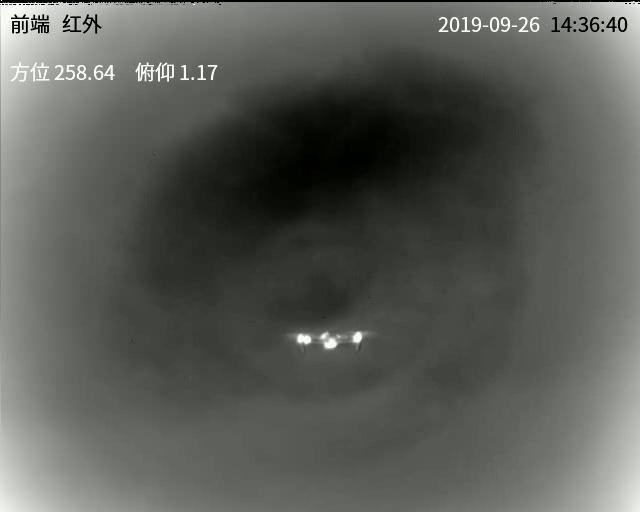DRONE: (296, 331, 365, 354)
